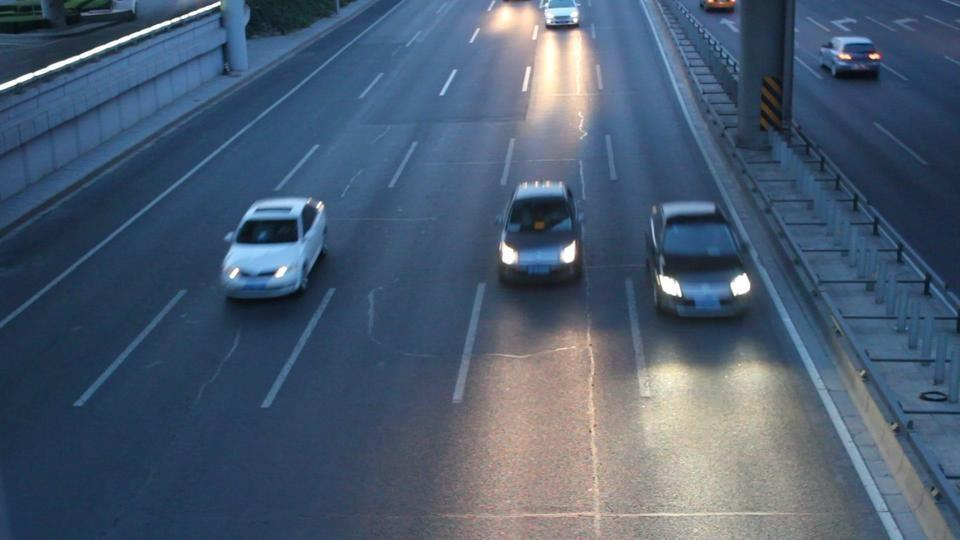car: (643, 200, 755, 320), (219, 194, 329, 302), (520, 25, 605, 153), (495, 179, 585, 286), (818, 36, 883, 79), (541, 0, 582, 28), (701, 0, 736, 13)
